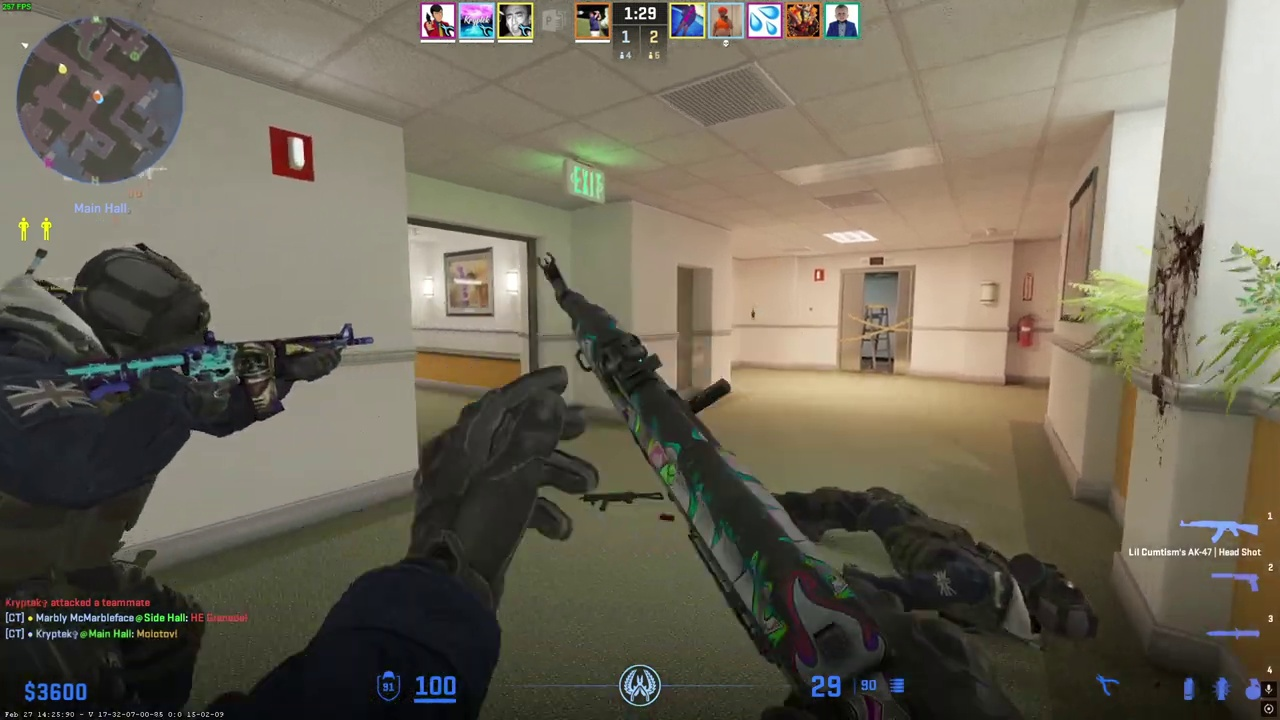CT: (0, 242, 259, 720)
